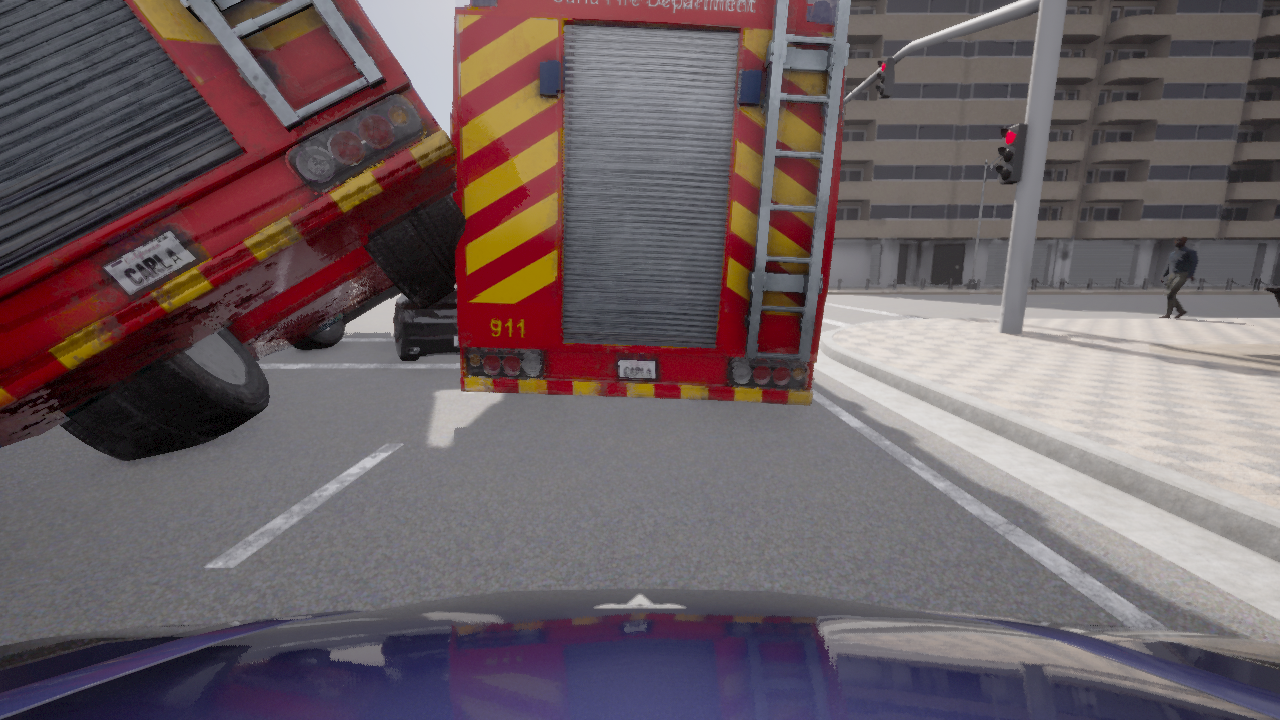cyclist: (0, 588, 1279, 719), (451, 0, 849, 403), (393, 290, 460, 361)
pedestrian: (1157, 235, 1199, 318)
